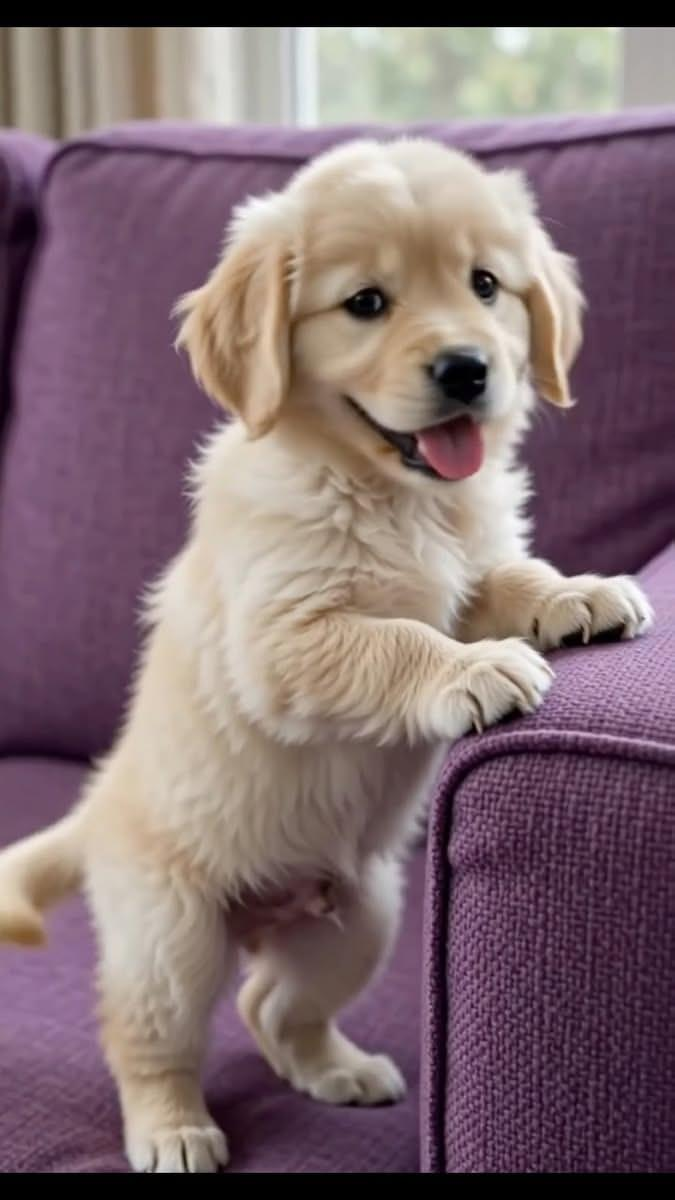puppy-dog: (0, 134, 654, 1173)
